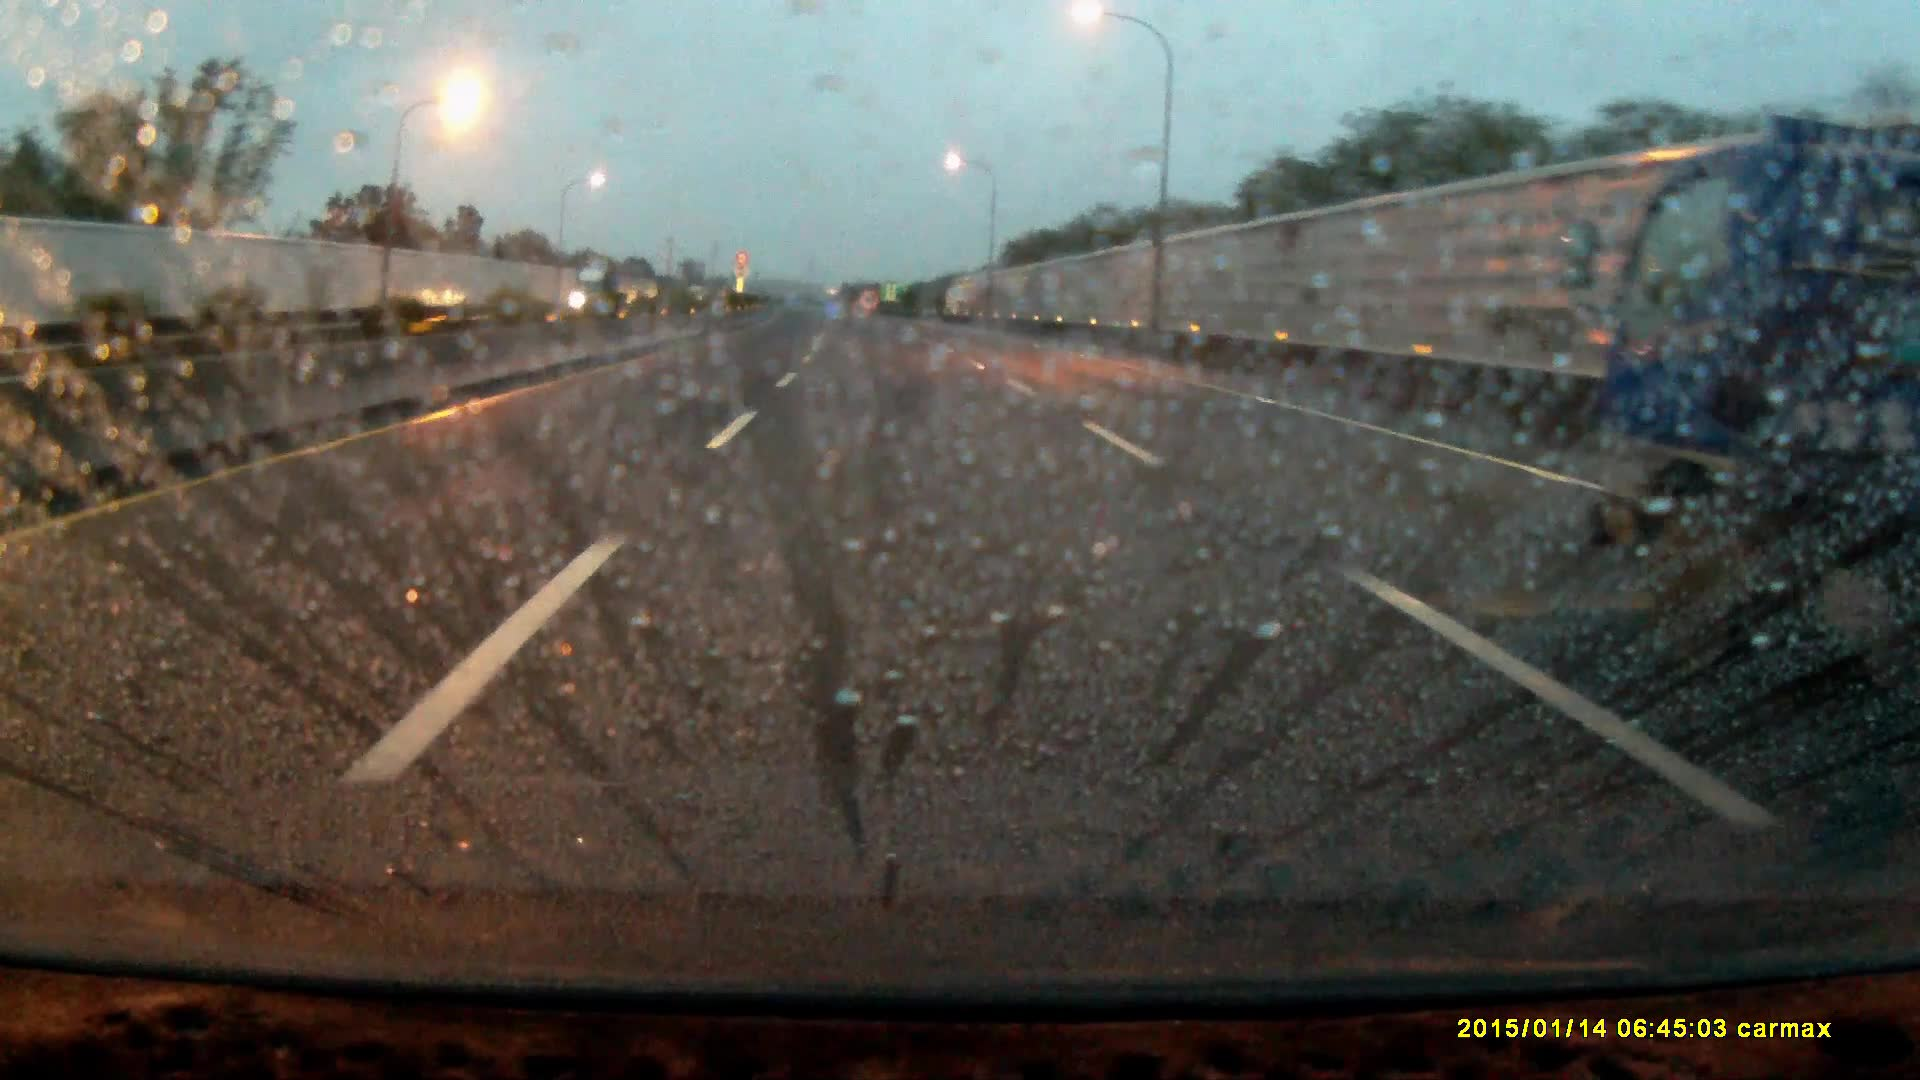vehicle: (1586, 138, 1920, 607), (575, 268, 618, 313)
